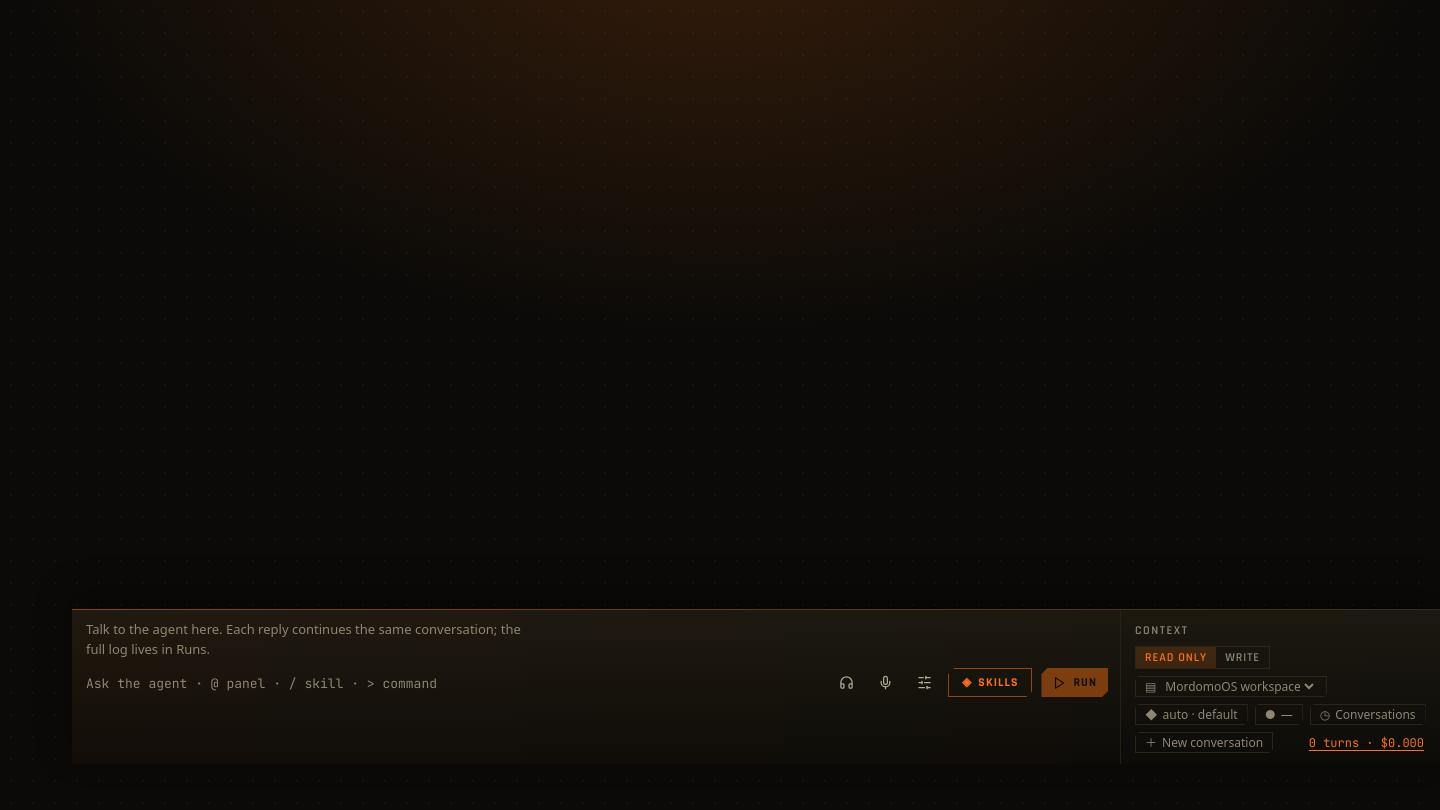
C26 every login command reader takes loginCommand from the snapshot › the console pre-flight
The provider snapshot has to be in before the line sends.
Type "hi" into the text box at (454, 684), box [86,671,822,697]
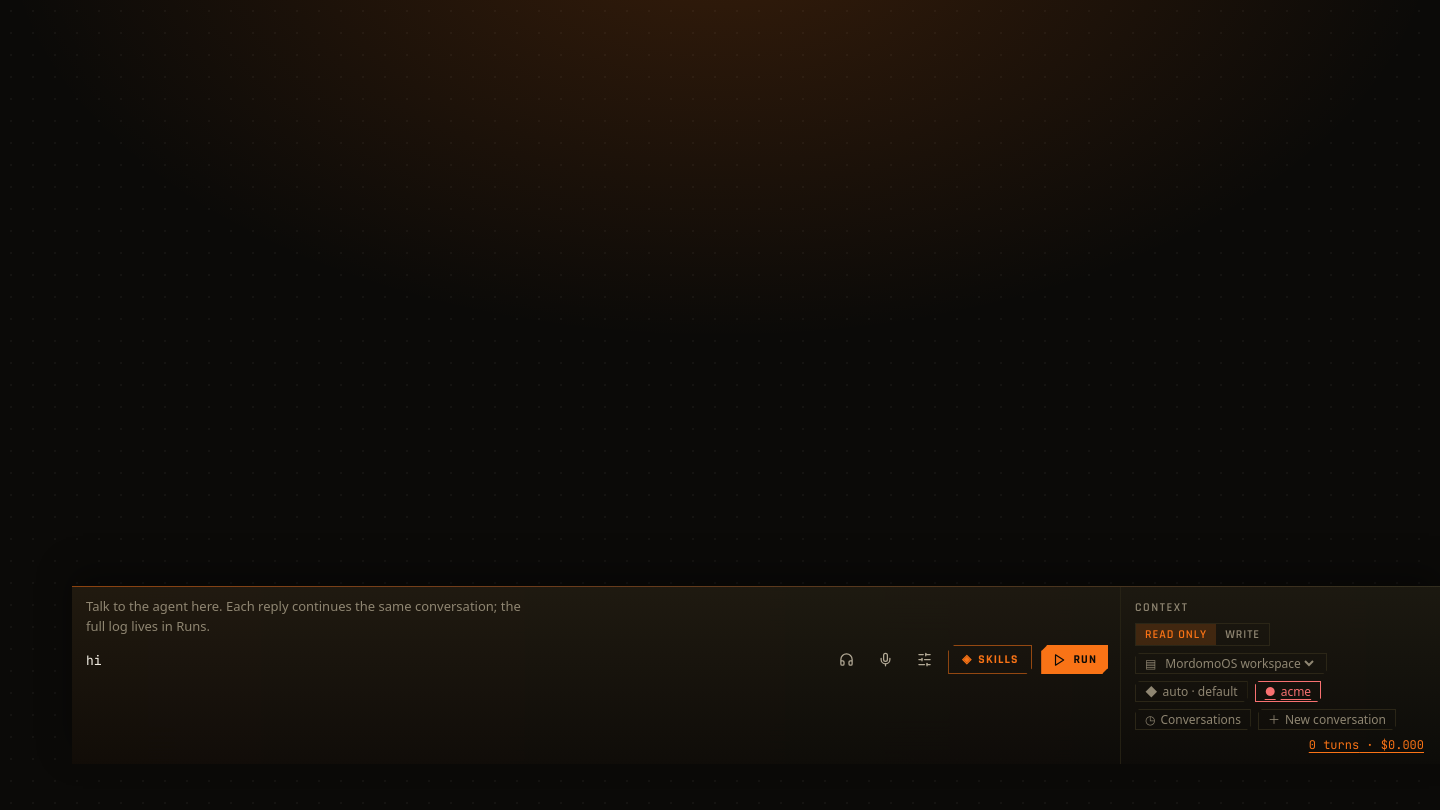
Press Enter in the text box, box [86,648,822,674]
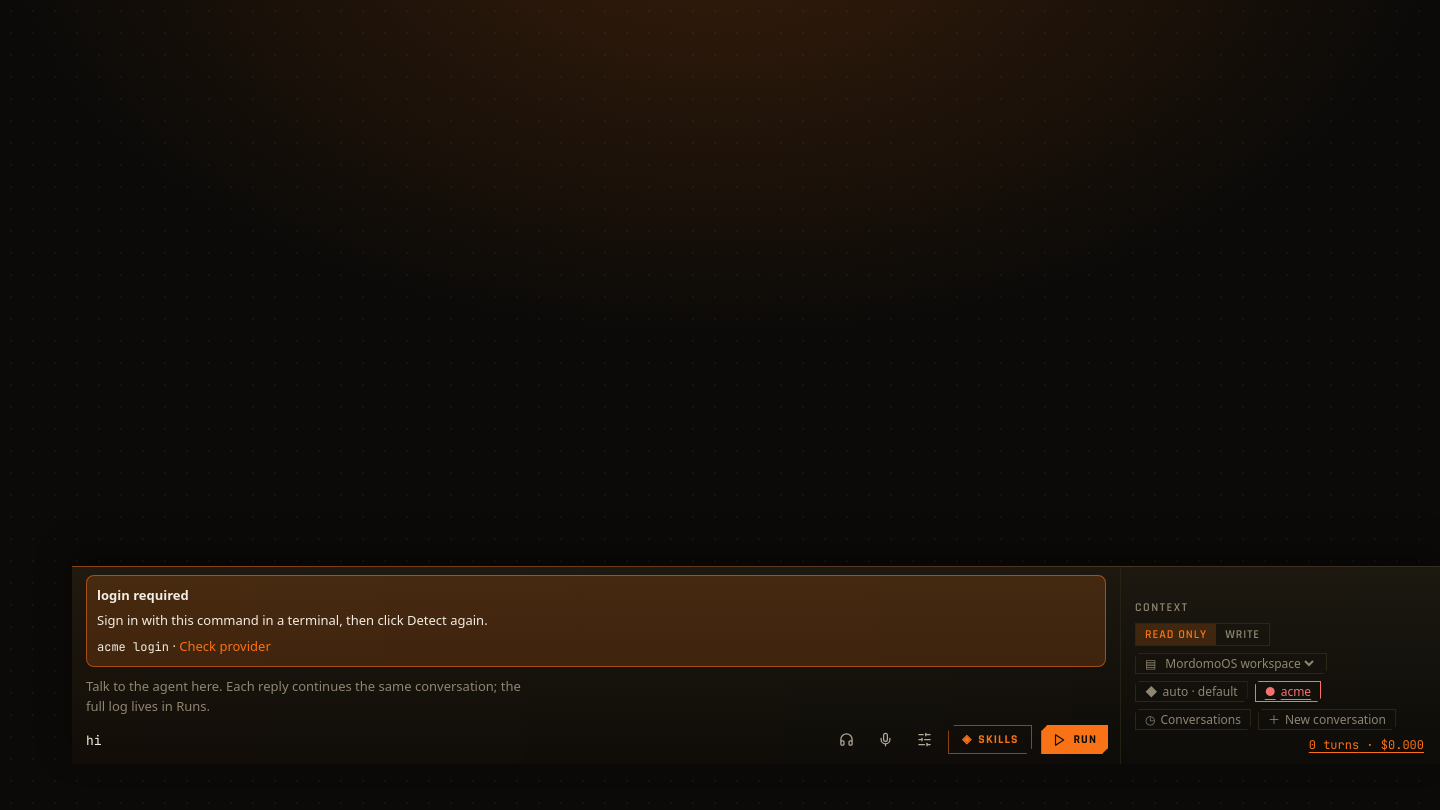
Expected: the message with test id "console-preflight" is shown, [86,574,1106,667]
Expected: the text "acme login" is shown, [97,638,169,654]
